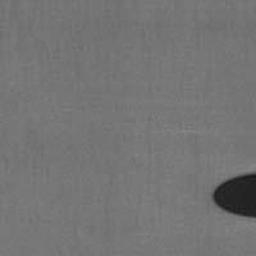Punching: (212, 173, 256, 219)
